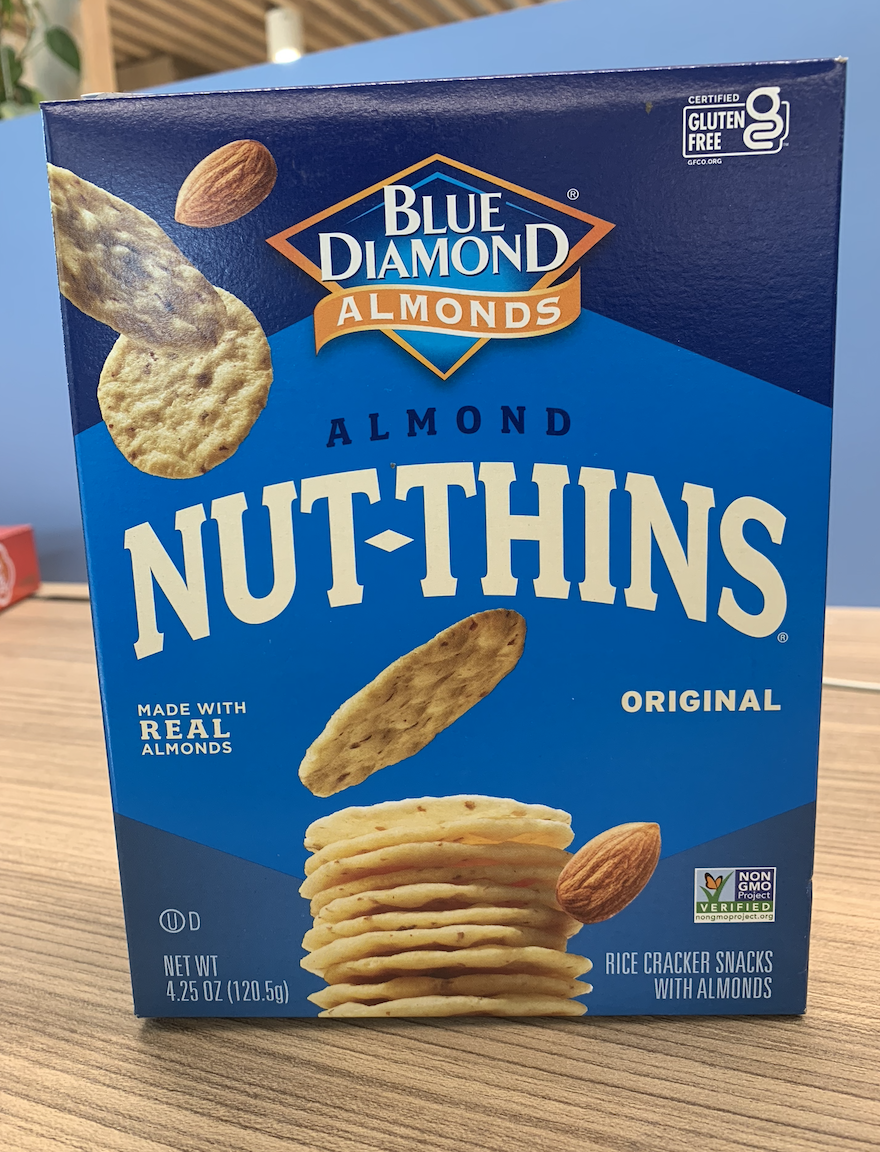crackers_100g-199g: (122, 102, 812, 1015)
